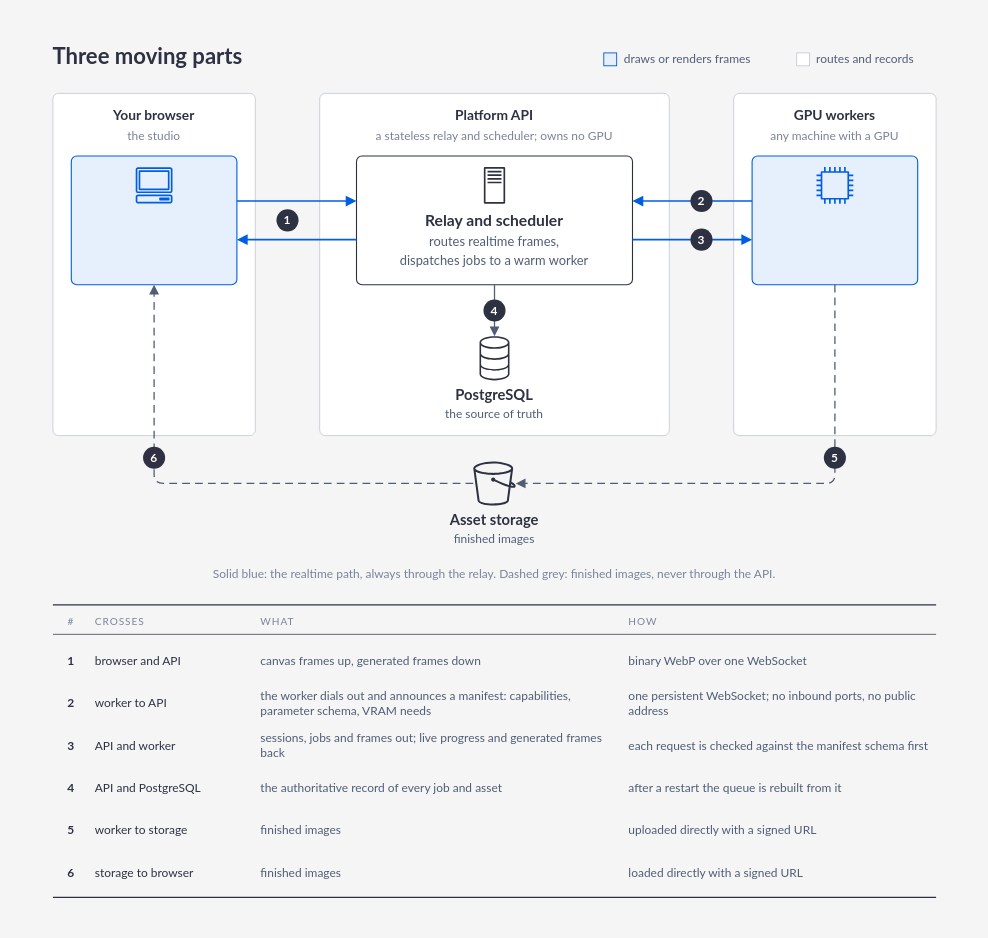
Image size: 988x938. Some labels were removed from this diagram. Here are the shapes that lost their labels. From the top down, the box of each, then its label:
(70, 155, 237, 285): Studio SPA canvas, controls, gallery
(751, 155, 918, 285): Diffusion engine holds the models, loads them on demand
